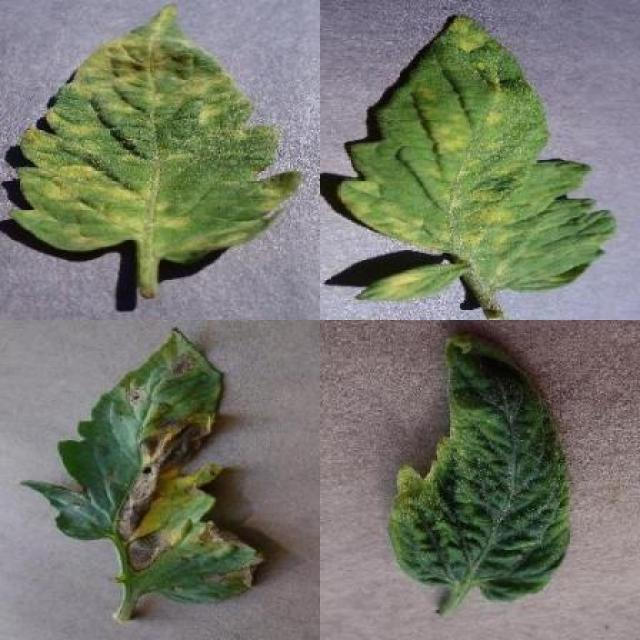Early Blight: (20, 327, 266, 602)
Leaf Mold: (337, 12, 617, 305), (7, 3, 303, 264)
Yellow Leaf Curl Virus: (387, 331, 570, 604)
